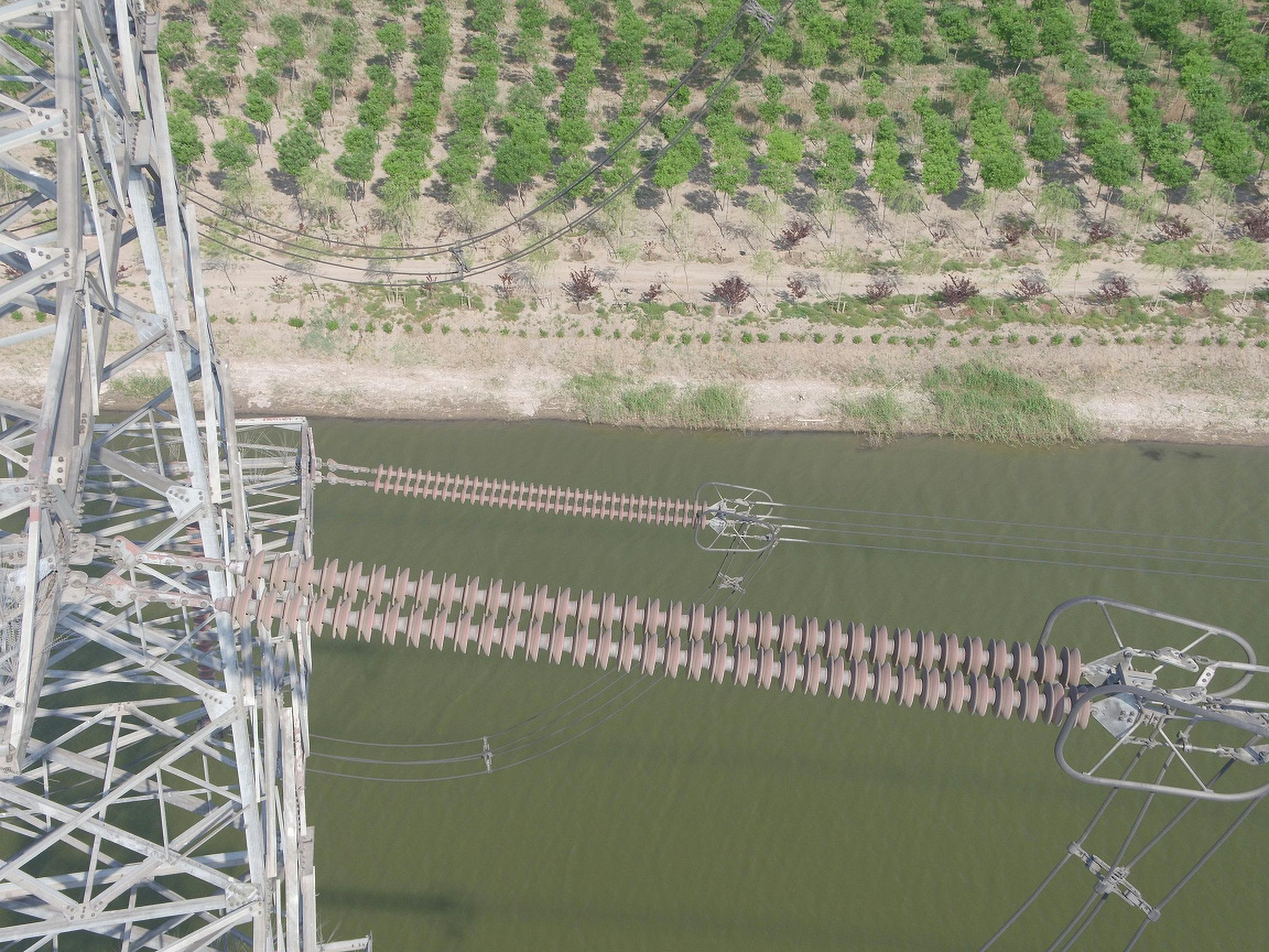insulator: (226, 544, 1096, 734), (368, 461, 709, 532)
